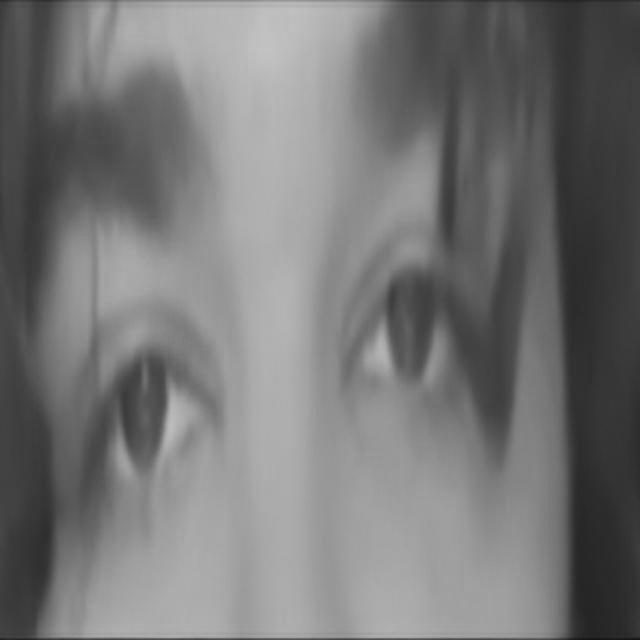real: (37, 208, 505, 542)
